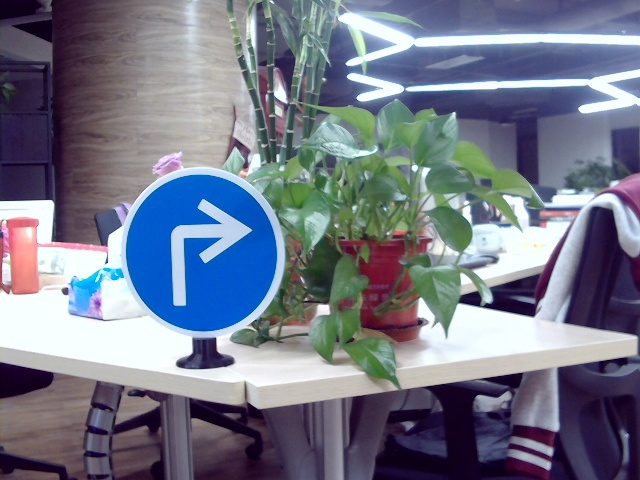turn_right: (170, 192, 246, 311)
